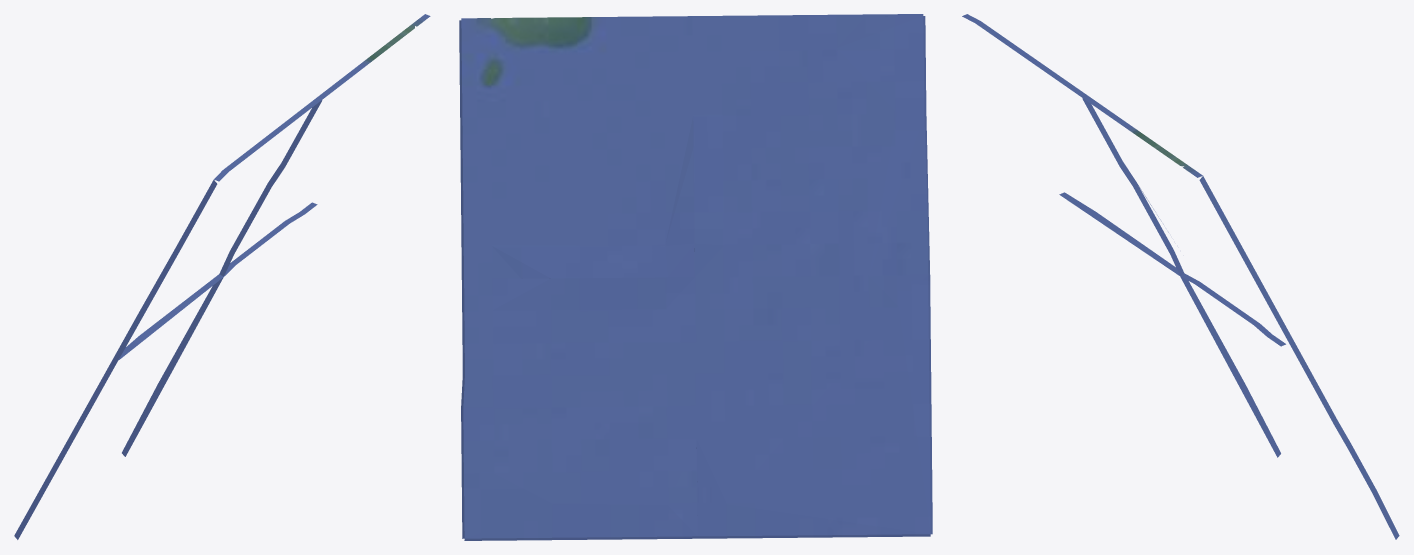
3 renders of one model, left to right at view 1: azimuth 30°, elevation 25°; view 2: azimuth 150°, elevation 25°; view 3: azimuth 270°, elevation 25°, orthographic. The views are drawn at different scales.
Size of the model in its own units: 78909 by 70540 by 67695.
Materials: 1 (1 with a texture image).
